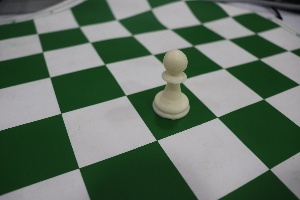white_pawn: (148, 40, 196, 126)
